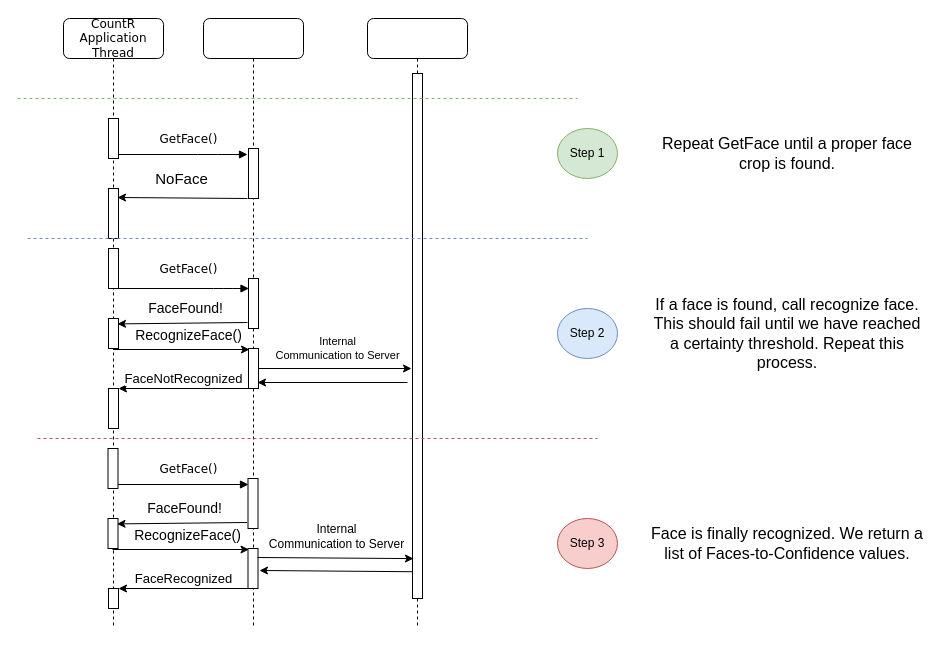
Some shapes in this 945 by 646 pixel diagram are drawn without their labels. Here are the shapes that lost their labels. From the top down, the box of each, then its label:
(202, 18, 304, 628): FaceRecognition Client
(366, 18, 468, 628): FaceRecogntion Server
